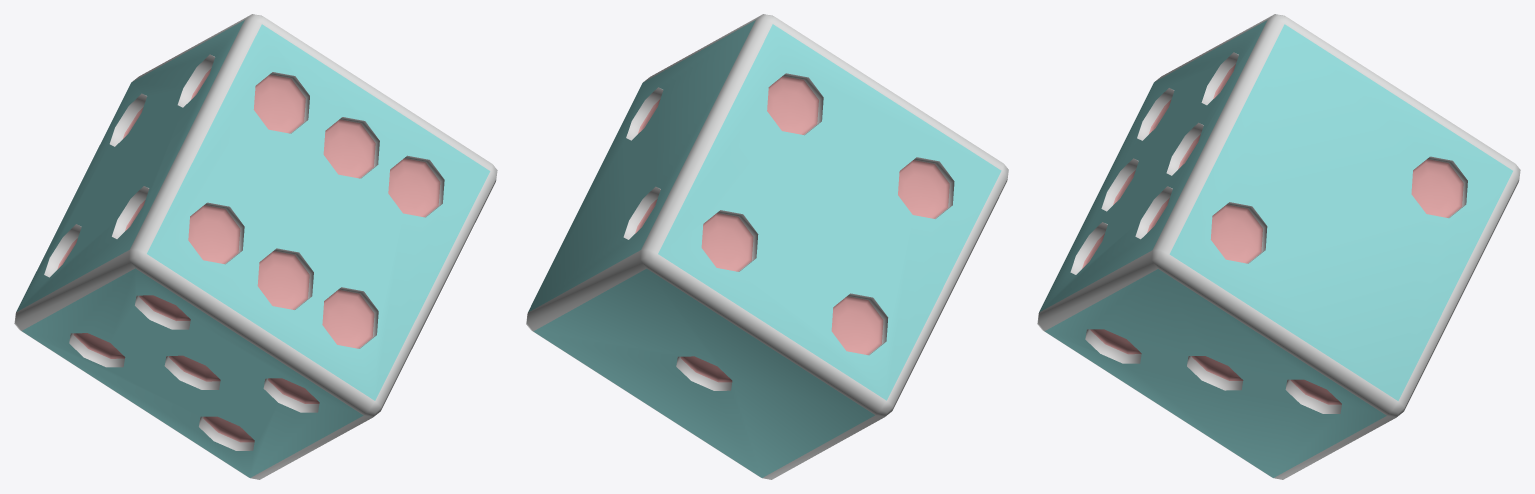
3 views of the same model, side by side, from view 1: azimuth 30°, elevation 25°; view 2: azimuth 150°, elevation 25°; view 3: azimuth 270°, elevation 25° (orthographic).
Parts seen in each view (by area): view 1: anim_0_30_0; view 2: anim_0_30_0; view 3: anim_0_30_0.
Part boxes in pixels (x1,y1,x2,y2): anim_0_30_0: (14, 14, 497, 479); anim_0_30_0: (526, 14, 1008, 479); anim_0_30_0: (1037, 14, 1520, 479).
Size of the model in its own units: 0.4142 by 0.5 by 0.4714.
